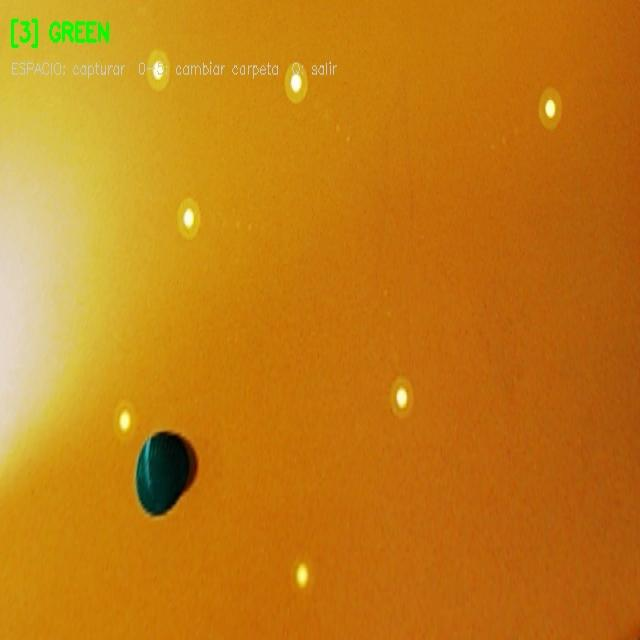green: (132, 430, 196, 515)
